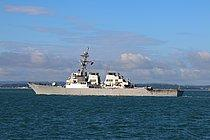MIL_Ship: (25, 46, 184, 98)
